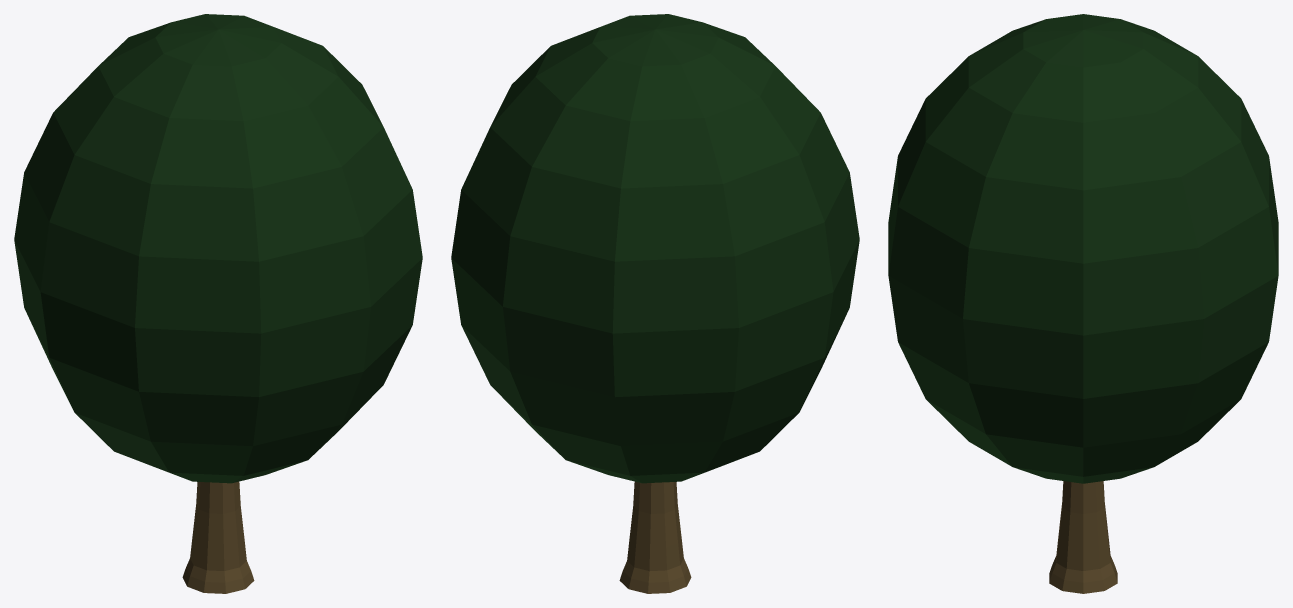
Rendered from Tree_Variant2.fbx.
The picture shows the model from 3 angles, left to right: view 1: azimuth 30°, elevation 25°; view 2: azimuth 150°, elevation 25°; view 3: azimuth 270°, elevation 25°; orthographic projection.
Parts seen in each view (by area): view 1: pSphere2; view 2: pSphere2; view 3: pSphere2.
Boxes of the visible parts, box(x1,y1,x2,y2) form: pSphere2: box(14, 14, 422, 593); pSphere2: box(451, 14, 859, 593); pSphere2: box(888, 14, 1278, 593).
Size of the model in its own units: 14 by 20.66 by 13.31.
